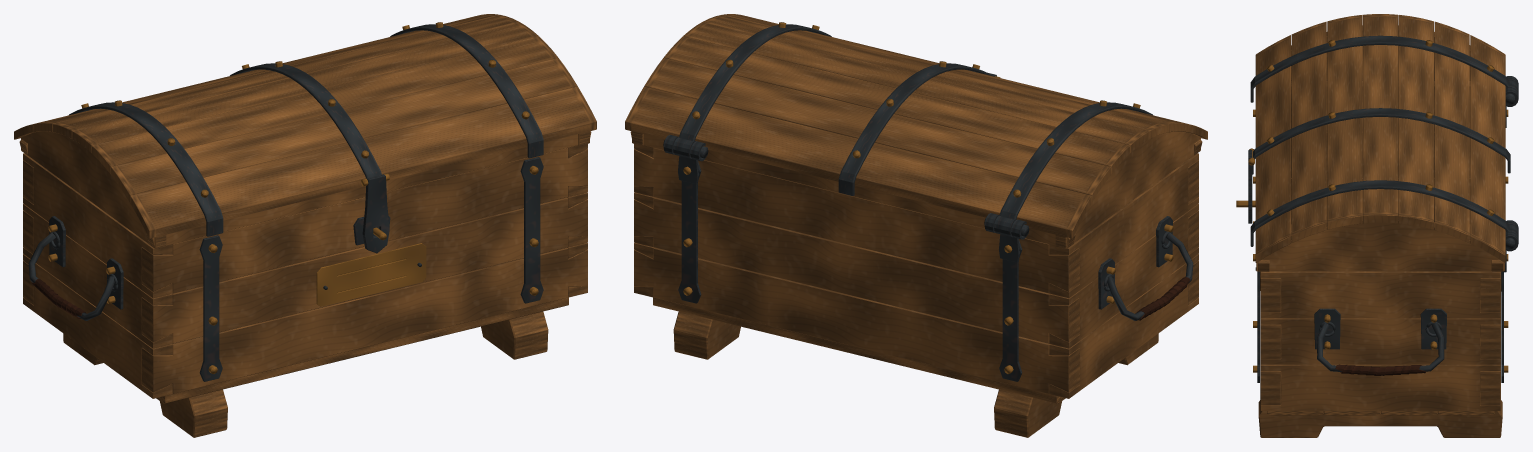
File: frontier_field_supply_chest_lod1.glb
3 views of the same model, side by side, from view 1: azimuth 30°, elevation 25°; view 2: azimuth 150°, elevation 25°; view 3: azimuth 270°, elevation 25° (orthographic). The views are drawn at different scales.
Visible parts, largest first — view 1: frontier_field_supply_chest.oak, frontier_field_supply_chest.iron, frontier_field_supply_chest.brass, frontier_field_supply_chest.leather; view 2: frontier_field_supply_chest.oak, frontier_field_supply_chest.iron, frontier_field_supply_chest.brass, frontier_field_supply_chest.leather; view 3: frontier_field_supply_chest.oak, frontier_field_supply_chest.iron, frontier_field_supply_chest.brass, frontier_field_supply_chest.leather.
Boxes of the visible parts, <box> form: frontier_field_supply_chest.oak: <box>14,14,596,437</box>; frontier_field_supply_chest.iron: <box>28,24,543,381</box>; frontier_field_supply_chest.brass: <box>48,22,538,373</box>; frontier_field_supply_chest.leather: <box>32,278,85,318</box>; frontier_field_supply_chest.oak: <box>625,14,1207,437</box>; frontier_field_supply_chest.iron: <box>663,24,1193,381</box>; frontier_field_supply_chest.brass: <box>683,22,1173,373</box>; frontier_field_supply_chest.leather: <box>1136,277,1190,320</box>; frontier_field_supply_chest.oak: <box>1255,14,1505,437</box>; frontier_field_supply_chest.iron: <box>1248,35,1518,382</box>; frontier_field_supply_chest.brass: <box>1236,40,1508,372</box>; frontier_field_supply_chest.leather: <box>1335,364,1425,375</box>.
Bounding box in the file's own units: 1.55 × 0.7905 × 0.8165.
Materials: 4 (4 with a texture image).
